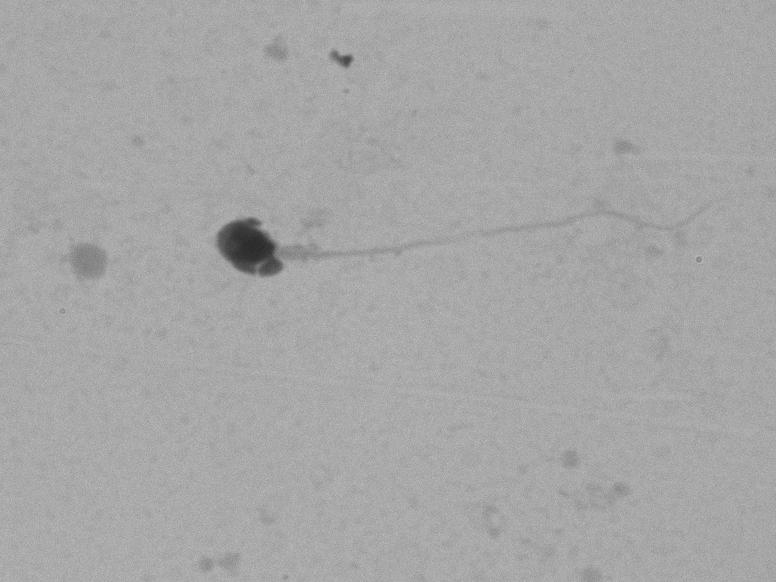Abnormal: (209, 154, 733, 311)
